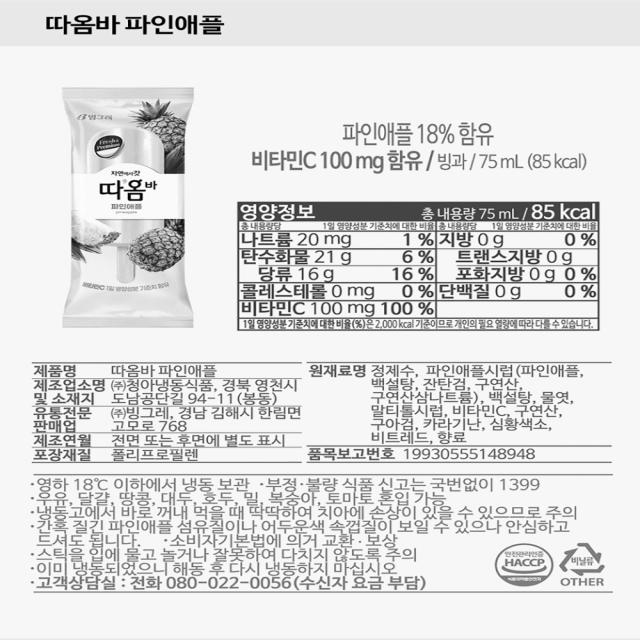Nutrition Label: (223, 192, 613, 340)
